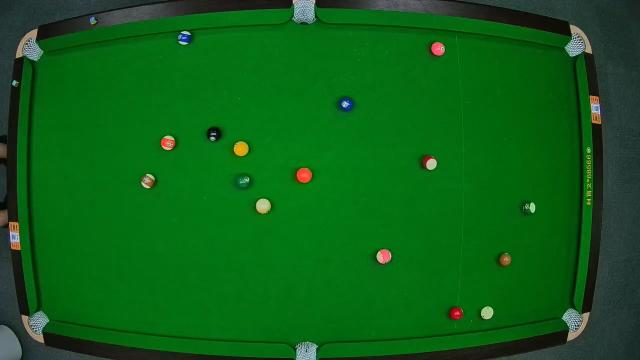bag1: (22, 39, 42, 61)
bag2: (292, 0, 318, 24)
bag3: (564, 33, 588, 55)
bag4: (27, 310, 48, 334)
bag5: (293, 340, 319, 360)
bag6: (562, 308, 582, 330)
ball0: (480, 304, 496, 320)
ball1: (234, 140, 248, 156)
ball10: (176, 30, 192, 46)
ball11: (422, 153, 438, 171)
ball12: (376, 248, 392, 264)
ball13: (160, 134, 176, 150)
ball14: (521, 200, 537, 216)
ball15: (140, 173, 156, 189)
ball2: (339, 96, 355, 110)
ball3: (447, 304, 465, 320)
ball4: (432, 42, 446, 56)
ball5: (296, 166, 312, 184)
ball6: (236, 173, 252, 189)
ball7: (496, 251, 512, 267)
ball8: (206, 128, 222, 142)
ball9: (254, 197, 272, 215)
